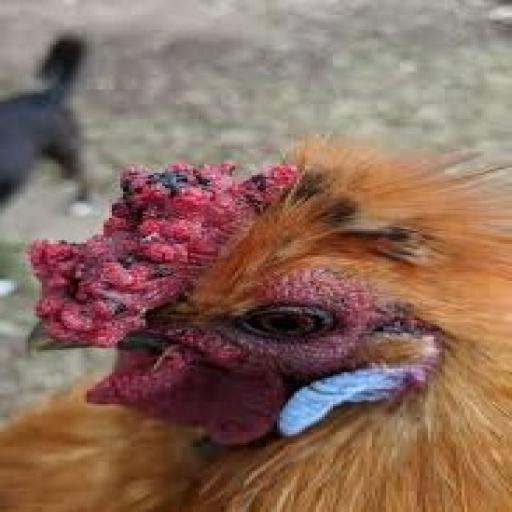disease: (23, 234, 187, 354), (204, 274, 392, 378), (123, 157, 266, 248)
